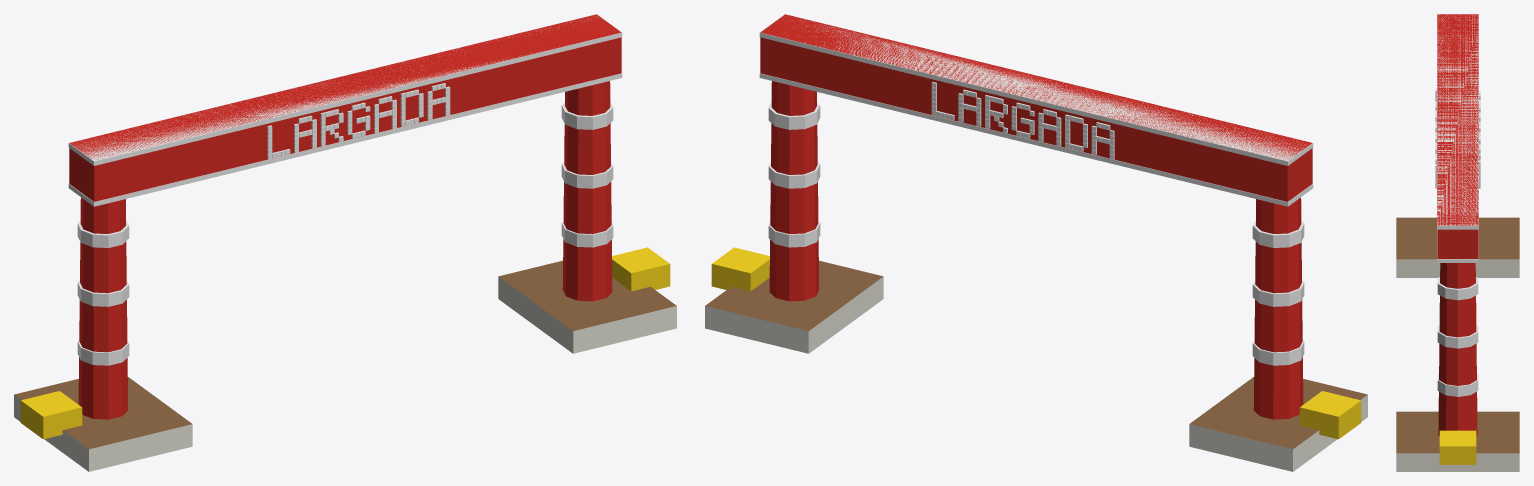
File: ponton_partida.obj
3 views of the same model, side by side, from view 1: azimuth 30°, elevation 25°; view 2: azimuth 150°, elevation 25°; view 3: azimuth 270°, elevation 25° (orthographic). The views are drawn at different scales.
Visible parts, largest first — view 1: ponton_partida; view 2: ponton_partida; view 3: ponton_partida.
Part boxes in pixels (box(x1,y1,x2,y2)): ponton_partida: box(14, 14, 676, 471); ponton_partida: box(705, 14, 1367, 471); ponton_partida: box(1396, 14, 1519, 471).
Bounding box in the file's own units: 14.5 × 6.3 × 3.
